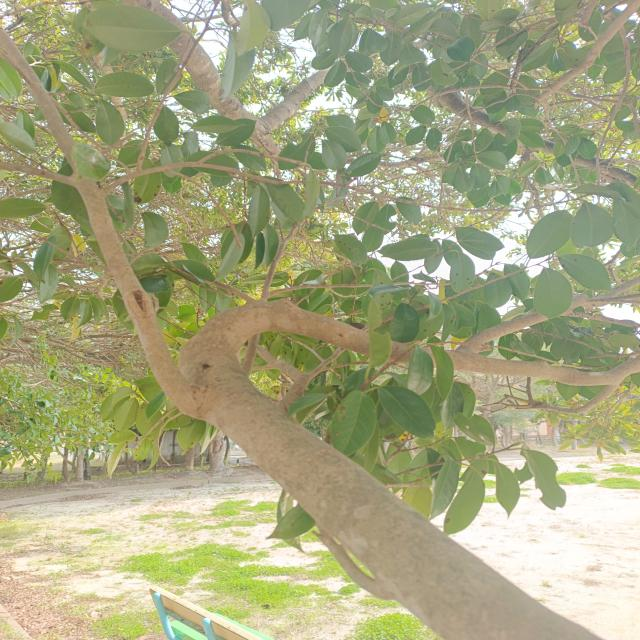Branch: (167, 296, 584, 639)
Twig: (2, 31, 181, 411), (463, 272, 640, 347), (482, 356, 640, 414)
